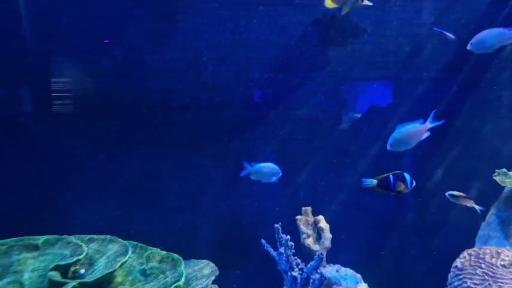Fish: (387, 111, 444, 151), (362, 172, 415, 193), (467, 28, 511, 53), (240, 162, 282, 182), (446, 192, 484, 213), (324, 0, 373, 14), (433, 28, 456, 39)
